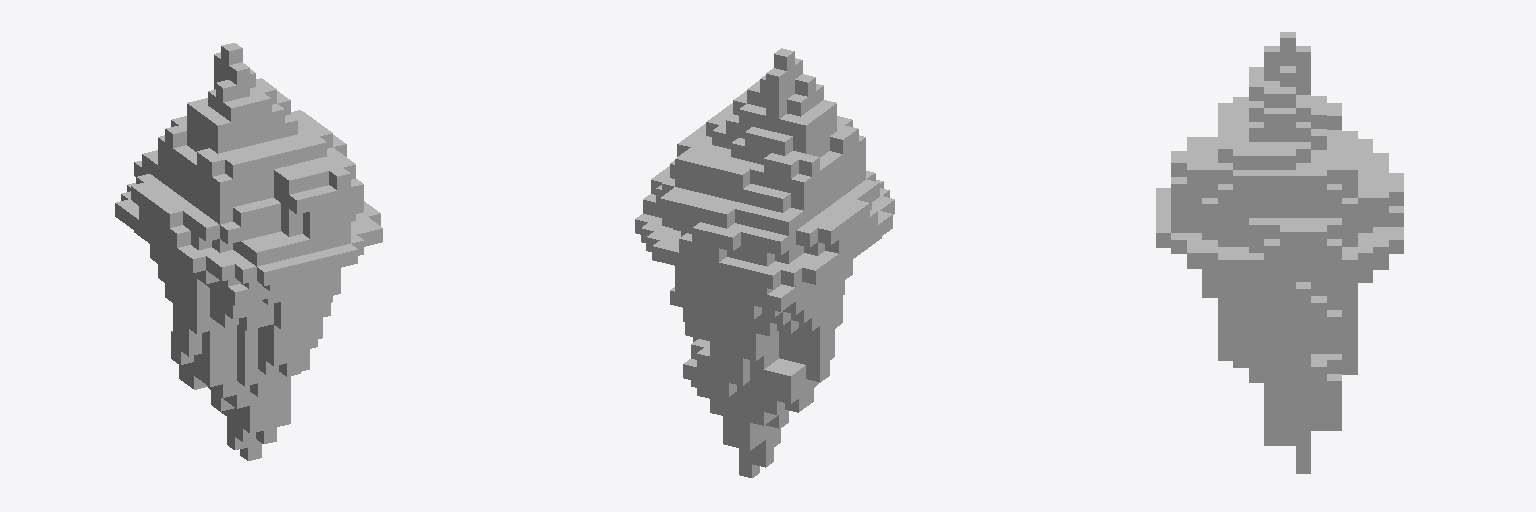
Rendered from Ice2.obj.
3 views of the same model, side by side, from view 1: azimuth 30°, elevation 25°; view 2: azimuth 150°, elevation 25°; view 3: azimuth 270°, elevation 25° (orthographic).
Visible parts, largest first — view 1: object 1; view 2: object 1; view 3: object 1.
Boxes of the visible parts, box(x1,y1,x2,y2) form: object 1: box(115, 43, 382, 460); object 1: box(635, 48, 894, 477); object 1: box(1156, 32, 1403, 473).
Bounding box in the file's own units: 1.4 × 3 × 1.6.